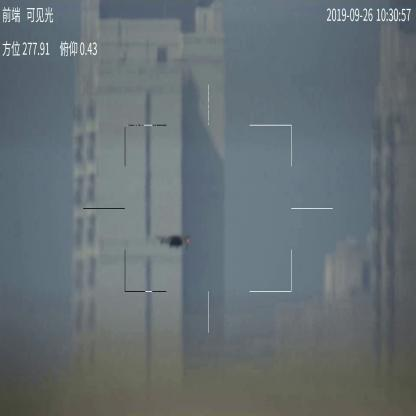uav: (156, 233, 193, 250)
